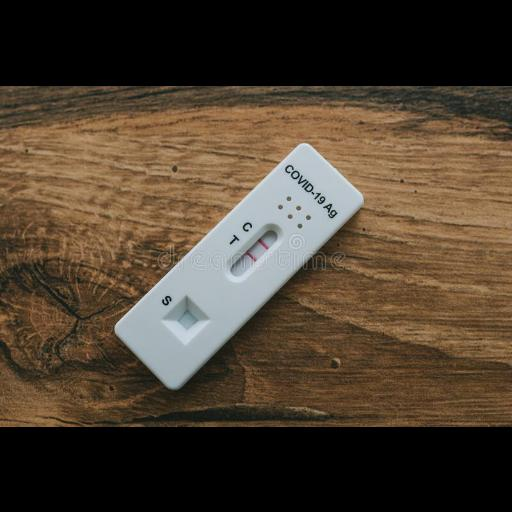Pos: (112, 142, 367, 389)
